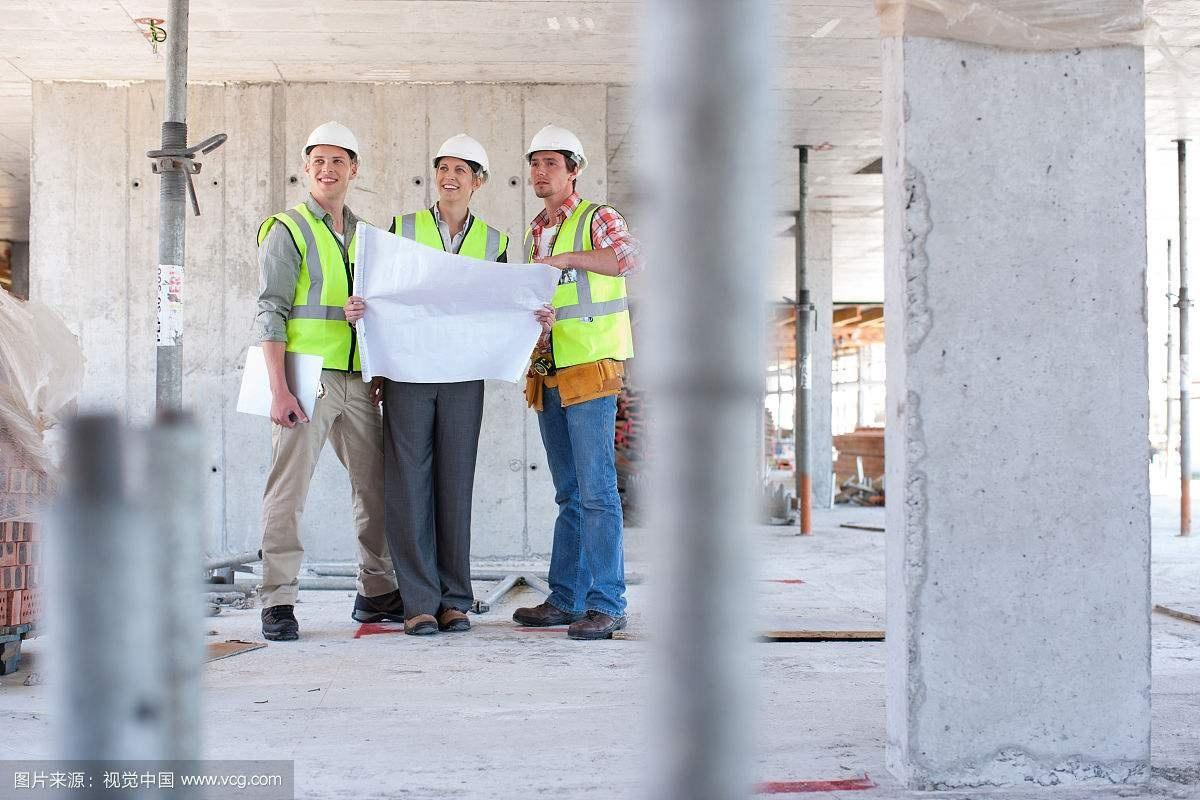helmet: (428, 129, 497, 187), (298, 118, 360, 178), (527, 121, 590, 174)
person: (240, 122, 390, 633), (386, 125, 514, 637), (516, 119, 633, 636)
vest: (514, 207, 645, 400), (252, 200, 378, 400)
